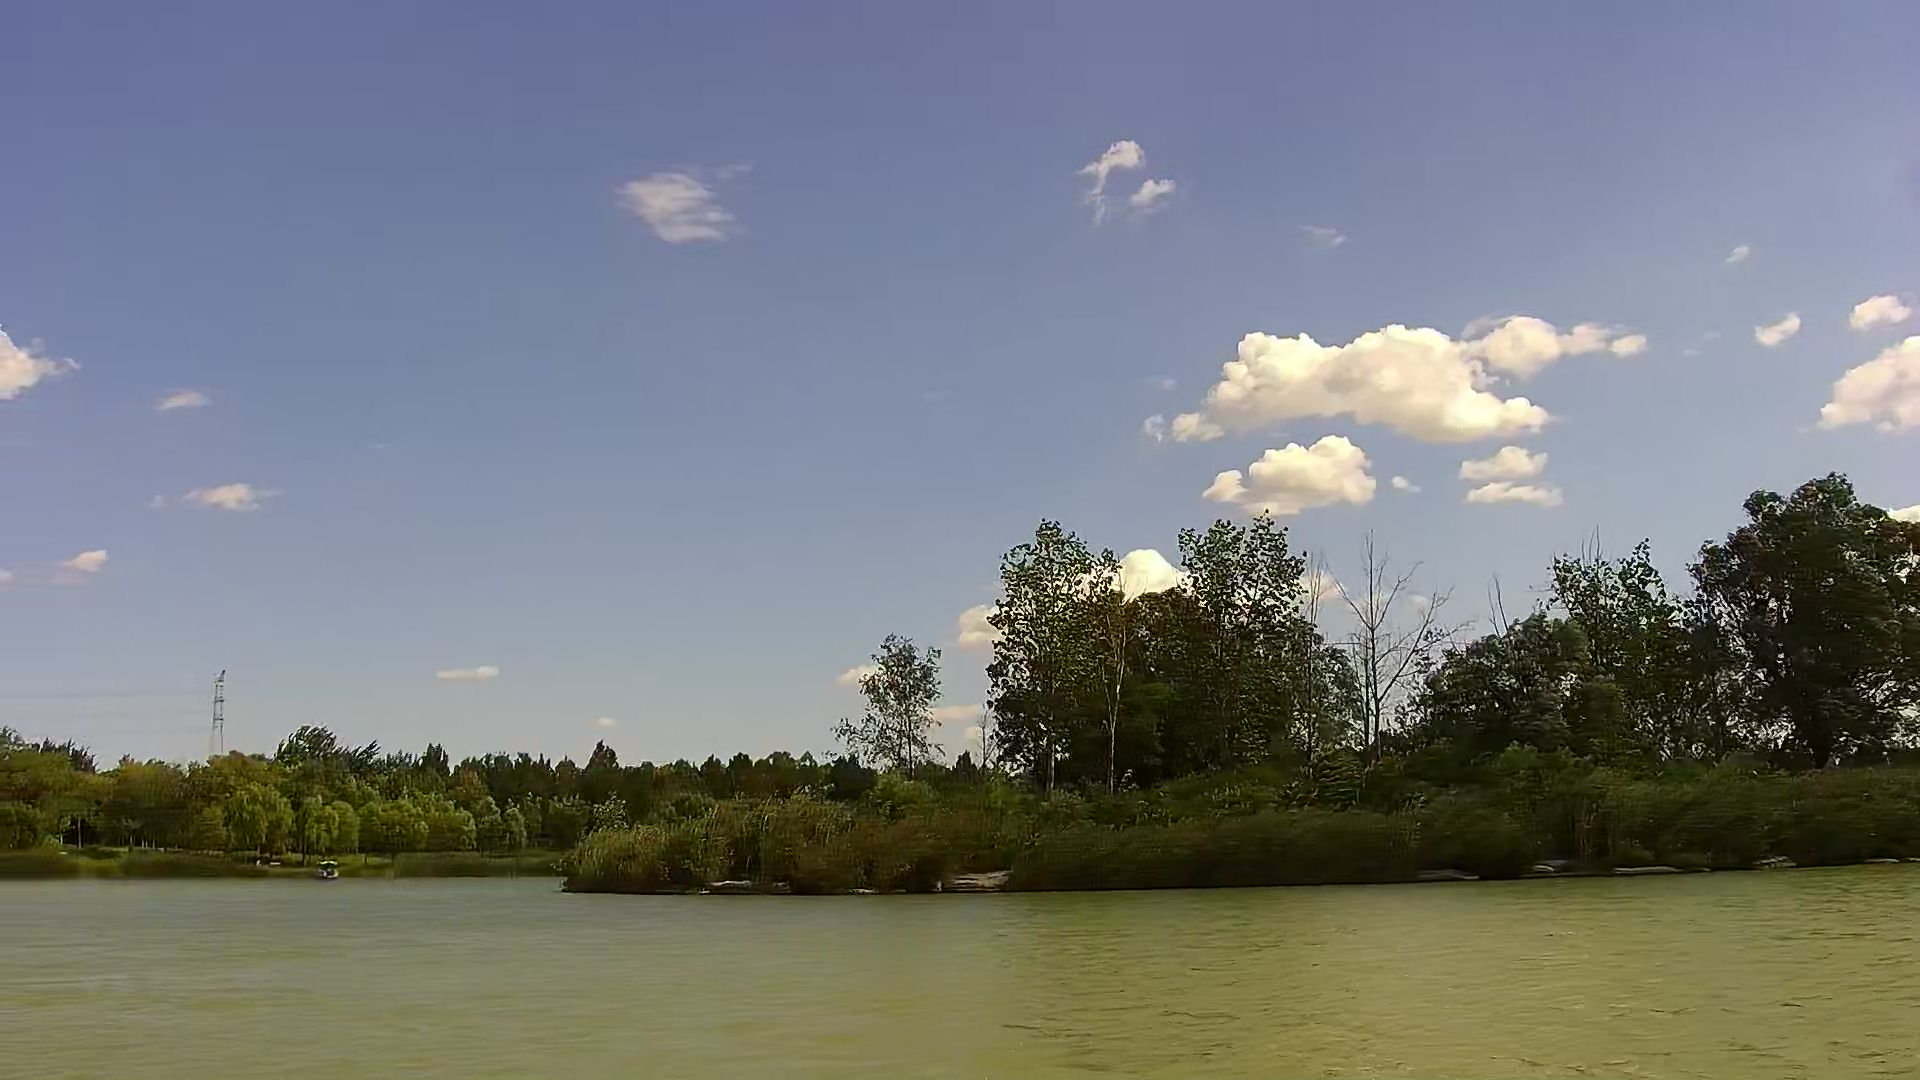rock: (698, 877, 777, 897), (942, 869, 1009, 889)
